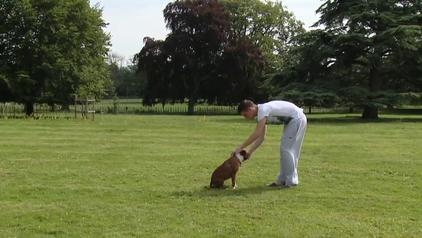down: (211, 146, 252, 195)
